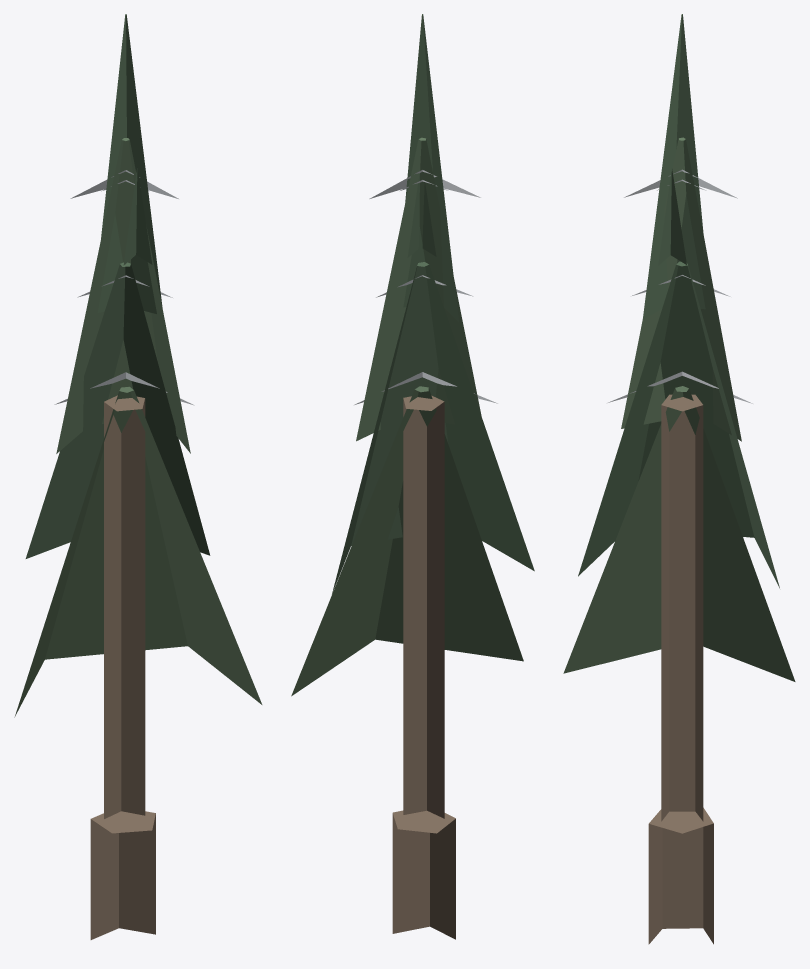
The model's file is tree.cold.juniper__autumn.glb.
3 renders of one model, left to right at view 1: azimuth 30°, elevation 25°; view 2: azimuth 150°, elevation 25°; view 3: azimuth 270°, elevation 25°, orthographic.
Parts seen in each view (by area): view 1: tree.cold.juniper__autumn; view 2: tree.cold.juniper__autumn; view 3: tree.cold.juniper__autumn.
Part boxes in pixels (box(x1,y1,x2,y2)): tree.cold.juniper__autumn: box(14, 14, 262, 939); tree.cold.juniper__autumn: box(291, 14, 534, 939); tree.cold.juniper__autumn: box(563, 14, 795, 944).
Bounding box in the file's own units: 2.13 × 9.24 × 2.1.
